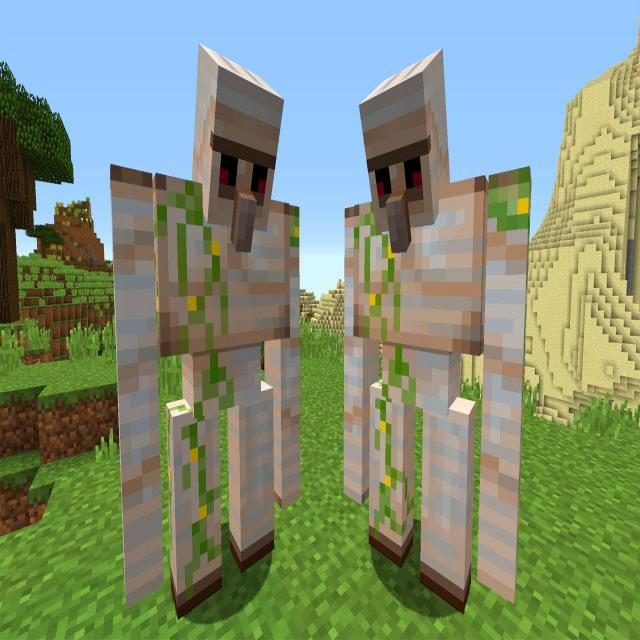Iron Golem: (104, 36, 304, 615), (337, 46, 533, 612)
